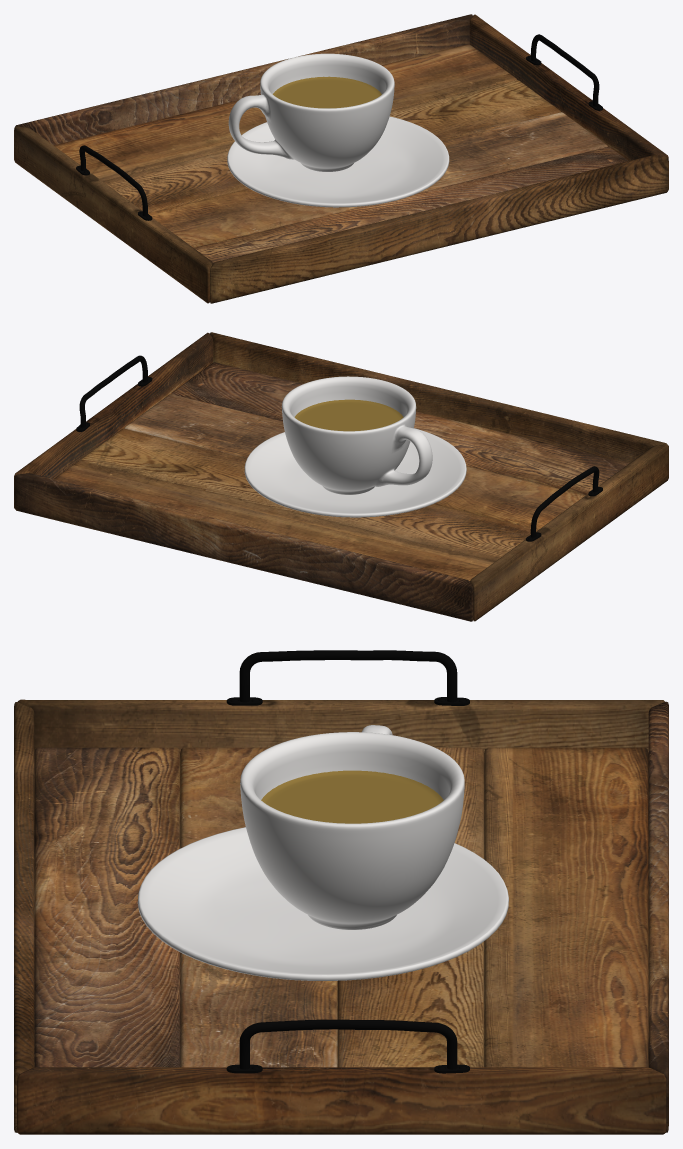
Rendered from tea.glb.
The picture shows the model from 3 angles, top to bottom: view 1: azimuth 30°, elevation 25°; view 2: azimuth 150°, elevation 25°; view 3: azimuth 270°, elevation 25°; orthographic projection. The views are drawn at different scales.
Visible parts, largest first — view 1: 模匠网www.3dsmj.comBF_tray, 模匠网www.3dsmj.comBF_coffee_cup, 模匠网www.3dsmj.comBF_plate_small, 模匠网www.3dsmj.comBF_coffee, 模匠网www.3dsmj.comBF_tray_handles; view 2: 模匠网www.3dsmj.comBF_tray, 模匠网www.3dsmj.comBF_coffee_cup, 模匠网www.3dsmj.comBF_plate_small, 模匠网www.3dsmj.comBF_coffee, 模匠网www.3dsmj.comBF_tray_handles; view 3: 模匠网www.3dsmj.comBF_tray, 模匠网www.3dsmj.comBF_plate_small, 模匠网www.3dsmj.comBF_coffee_cup, 模匠网www.3dsmj.comBF_coffee, 模匠网www.3dsmj.comBF_tray_handles.
Boxes of the visible parts, x1,y1,x2,y2 form: 模匠网www.3dsmj.comBF_tray: (14,14,668,303); 模匠网www.3dsmj.comBF_coffee_cup: (228,53,394,171); 模匠网www.3dsmj.comBF_plate_small: (227,116,449,207); 模匠网www.3dsmj.comBF_coffee: (273,76,381,108); 模匠网www.3dsmj.comBF_tray_handles: (76,34,602,220); 模匠网www.3dsmj.comBF_tray: (14,332,668,621); 模匠网www.3dsmj.comBF_coffee_cup: (281,376,432,494); 模匠网www.3dsmj.comBF_plate_small: (244,428,466,517); 模匠网www.3dsmj.comBF_coffee: (294,399,403,431); 模匠网www.3dsmj.comBF_tray_handles: (76,355,602,541); 模匠网www.3dsmj.comBF_tray: (14,699,668,1134); 模匠网www.3dsmj.comBF_plate_small: (137,827,508,980); 模匠网www.3dsmj.comBF_coffee_cup: (240,725,464,929); 模匠网www.3dsmj.comBF_coffee: (261,770,443,823); 模匠网www.3dsmj.comBF_tray_handles: (226,650,469,1073).
Size of the model in its own units: 0.5232 by 0.1043 by 0.3848.
4 materials, 2 textured.
